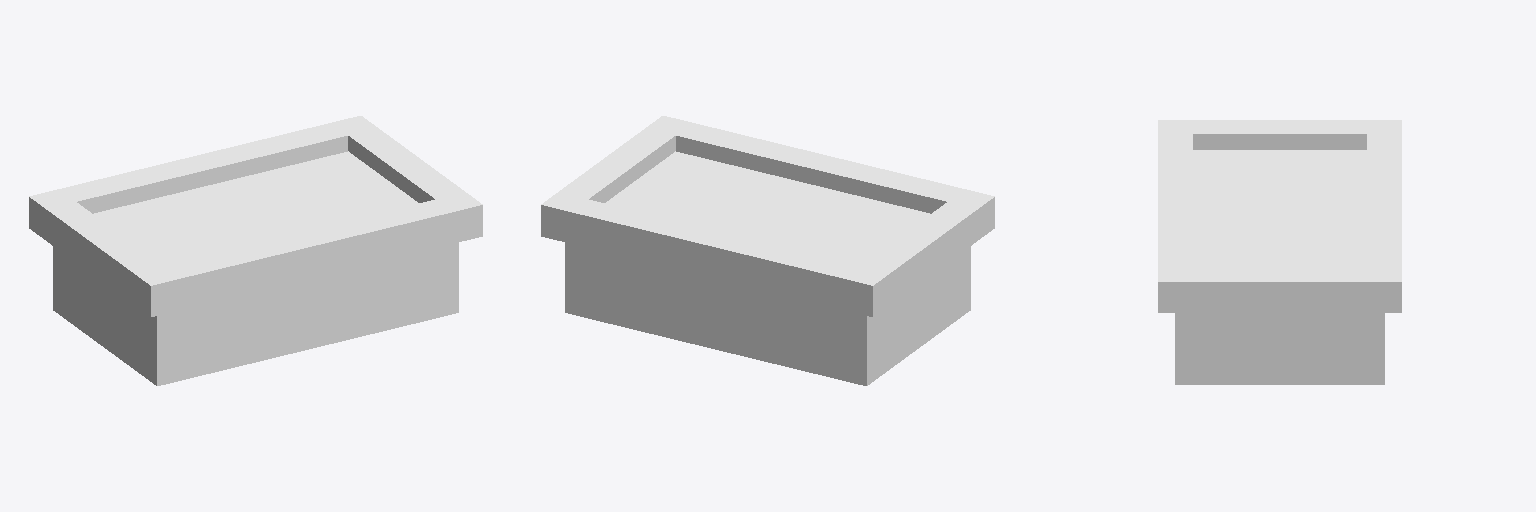
Rendered from strawbery.obj.
3 views of the same model, side by side, from view 1: azimuth 30°, elevation 25°; view 2: azimuth 150°, elevation 25°; view 3: azimuth 270°, elevation 25° (orthographic).
Visible parts, largest first — view 1: object 1; view 2: object 1; view 3: object 1.
Boxes of the visible parts, box(x1,y1,x2,y2) form: object 1: box(29, 116, 482, 385); object 1: box(541, 116, 994, 385); object 1: box(1158, 120, 1401, 384).
Size of the model in its own units: 2.2 by 0.7 by 1.4.